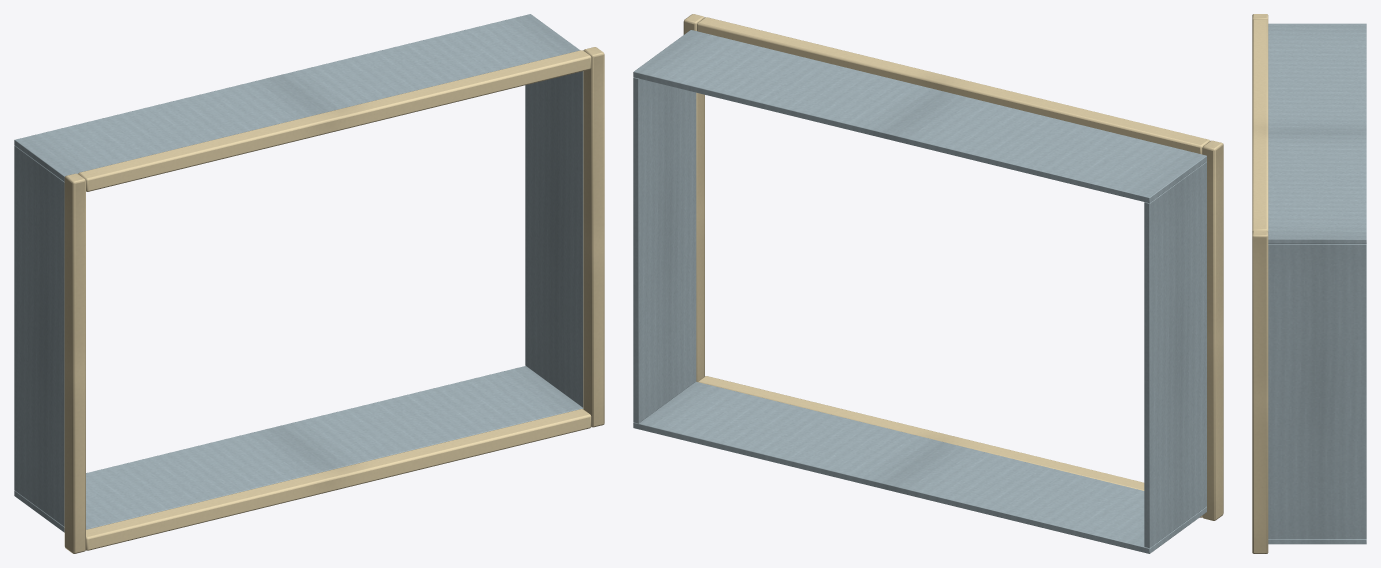
The model's file is 24-front-open-long-window--52.fbx.
The picture shows the model from 3 angles, left to right: view 1: azimuth 30°, elevation 25°; view 2: azimuth 150°, elevation 25°; view 3: azimuth 270°, elevation 25°; orthographic projection. The views are drawn at different scales.
Visible parts, largest first — view 1: front-open-long-window--52; view 2: front-open-long-window--52; view 3: front-open-long-window--52.
Part boxes in pixels (x1=…): front-open-long-window--52: x1=14, y1=14, x2=604, y2=553; front-open-long-window--52: x1=633, y1=14, x2=1223, y2=553; front-open-long-window--52: x1=1252, y1=14, x2=1366, y2=553.
Bounding box in the file's own units: 4840 × 3240 × 1055.
Materials: 1 (1 with a texture image).
